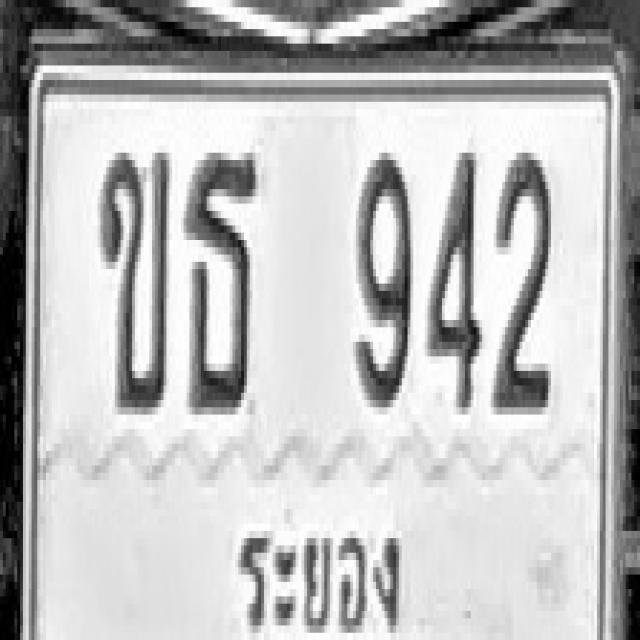11KhorKhai: (98, 146, 169, 408)
2: (491, 146, 551, 408)
33ThorThong: (184, 142, 258, 411)
4: (426, 146, 481, 408)
9: (356, 142, 410, 404)
Rayong: (230, 495, 412, 640)
